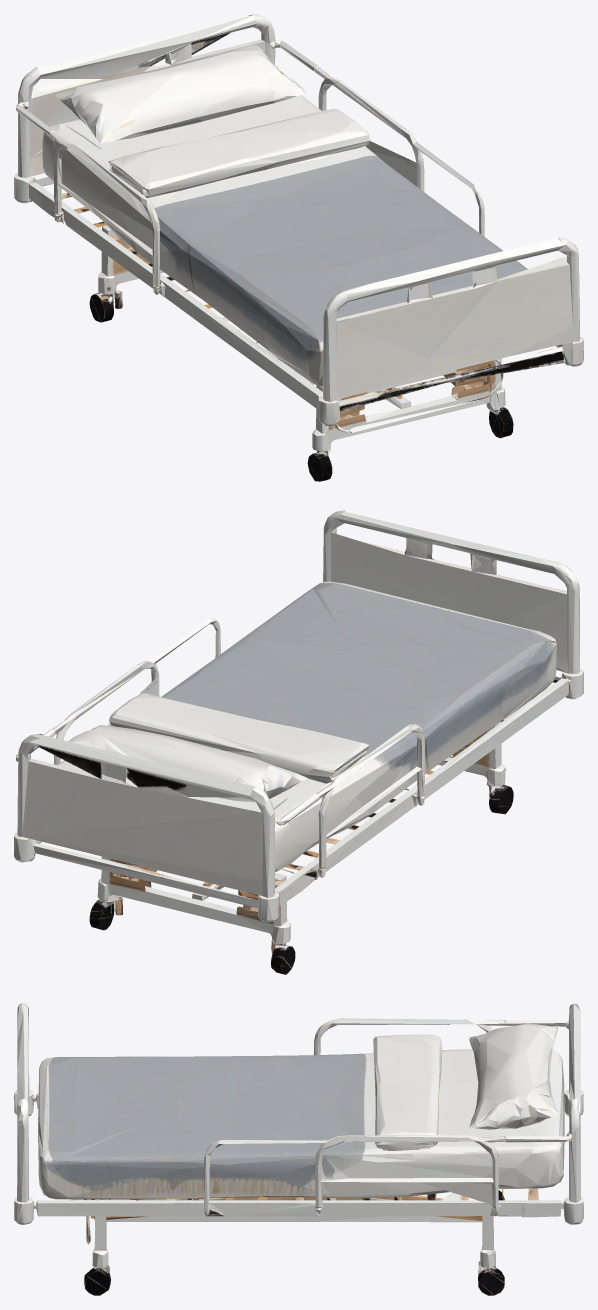
File: hospital_bed.glb
3 views of the same model, one above another, from view 1: azimuth 30°, elevation 25°; view 2: azimuth 150°, elevation 25°; view 3: azimuth 270°, elevation 25° (orthographic). The views are drawn at different scales.
Bounding box in the file's own units: 0.9438 × 0.7447 × 1.9.
Materials: 1 (1 with a texture image).
